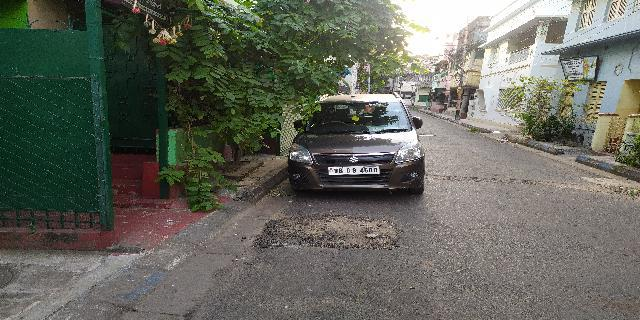Car: (283, 86, 429, 197)
